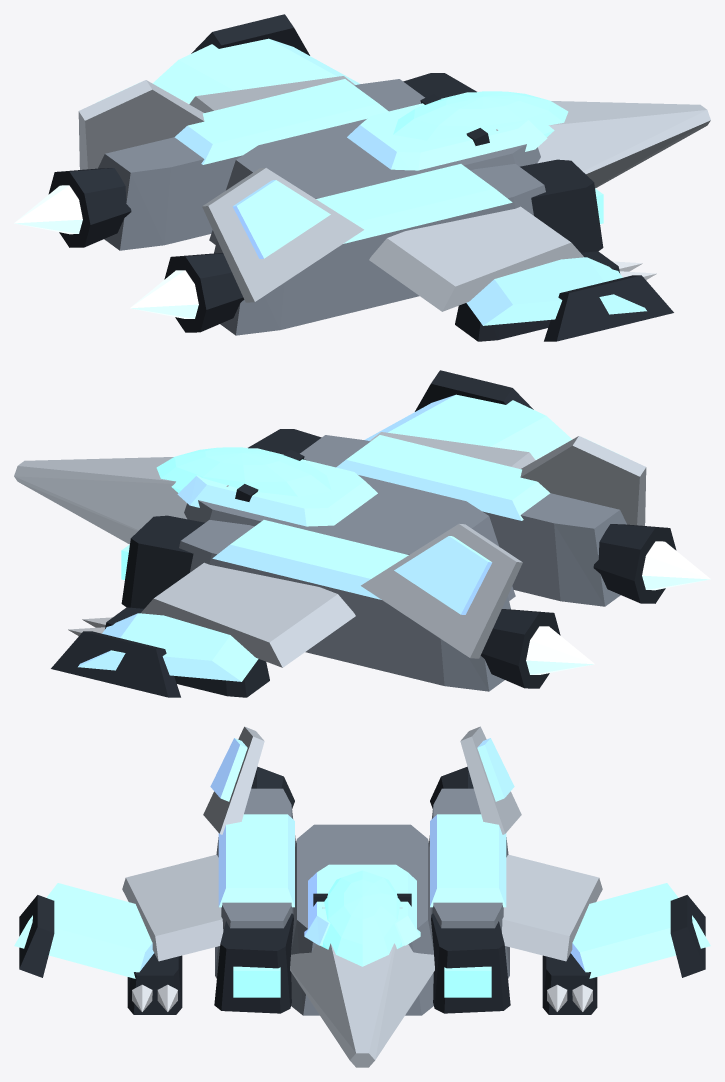
File: kestrel_interceptor.glb
3 views of the same model, one above another, from view 1: azimuth 30°, elevation 25°; view 2: azimuth 150°, elevation 25°; view 3: azimuth 270°, elevation 25° (orthographic). The views are drawn at different scales.
Parts seen in each view (by area): view 1: Surf_TEAM, Surf_hull, Surf_armor, Surf_dark, Surf_canopy, Surf_GLOW; view 2: Surf_TEAM, Surf_hull, Surf_armor, Surf_dark, Surf_canopy, Surf_GLOW; view 3: Surf_TEAM, Surf_hull, Surf_dark, Surf_armor, Surf_canopy, Surf_msl.
Part boxes in pixels (<box>): Surf_TEAM: <box>96,38,646,325</box>; Surf_hull: <box>78,76,710,311</box>; Surf_armor: <box>98,79,545,335</box>; Surf_dark: <box>48,14,673,341</box>; Surf_canopy: <box>393,91,603,224</box>; Surf_GLOW: <box>14,185,198,318</box>; Surf_TEAM: <box>78,394,628,681</box>; Surf_hull: <box>14,432,646,667</box>; Surf_armor: <box>179,435,626,691</box>; Surf_dark: <box>51,370,676,697</box>; Surf_canopy: <box>121,447,331,580</box>; Surf_GLOW: <box>526,541,710,674</box>; Surf_TEAM: <box>14,738,710,978</box>; Surf_hull: <box>122,726,602,1067</box>; Surf_dark: <box>19,766,705,1014</box>; Surf_armor: <box>215,788,509,1015</box>; Surf_canopy: <box>233,870,491,997</box>; Surf_msl: <box>132,984,592,1011</box>.
Bounding box in the file's own units: 3.65 × 0.9347 × 3.83.
